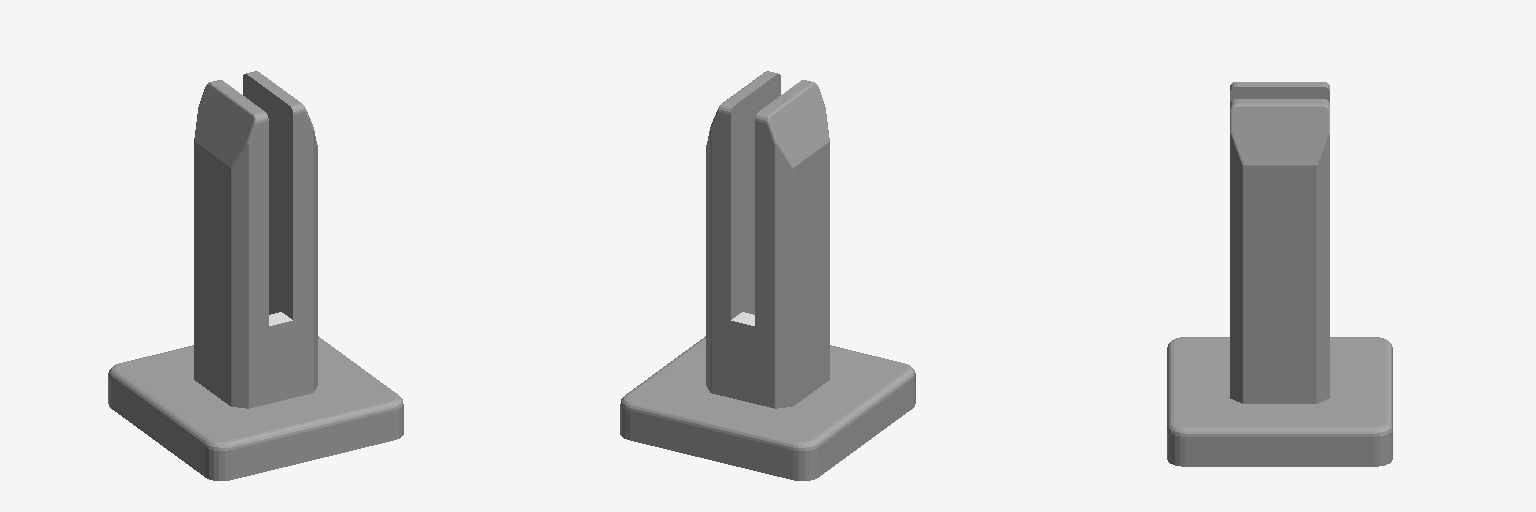
Rendered from spartan-spigot-chrome-mm.obj.
3 views of the same model, side by side, from view 1: azimuth 30°, elevation 25°; view 2: azimuth 150°, elevation 25°; view 3: azimuth 270°, elevation 25° (orthographic).
Visible parts, largest first — view 1: Solid1; view 2: Solid1; view 3: Solid1.
Boxes of the visible parts, x1,y1,x2,y2 form: Solid1: [108, 71, 403, 480]; Solid1: [620, 71, 915, 480]; Solid1: [1167, 82, 1392, 466].
Bounding box in the file's own units: 102 × 162 × 102.